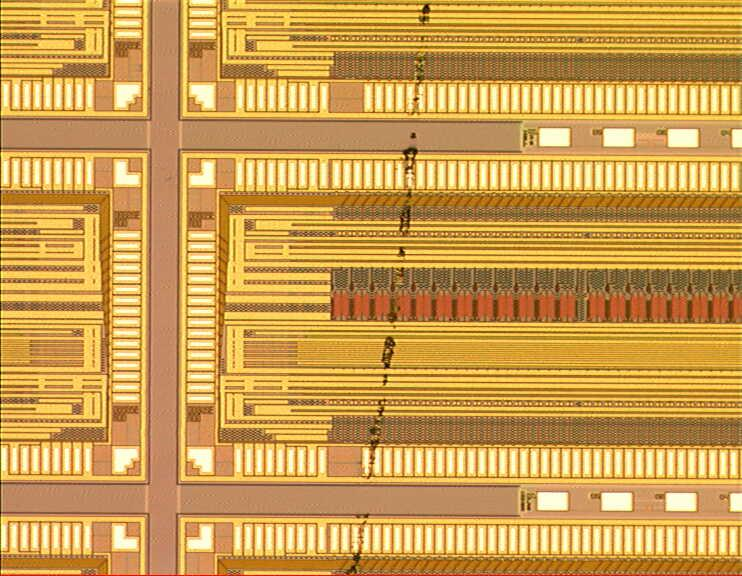SCRATCH: (336, 1, 448, 576)
